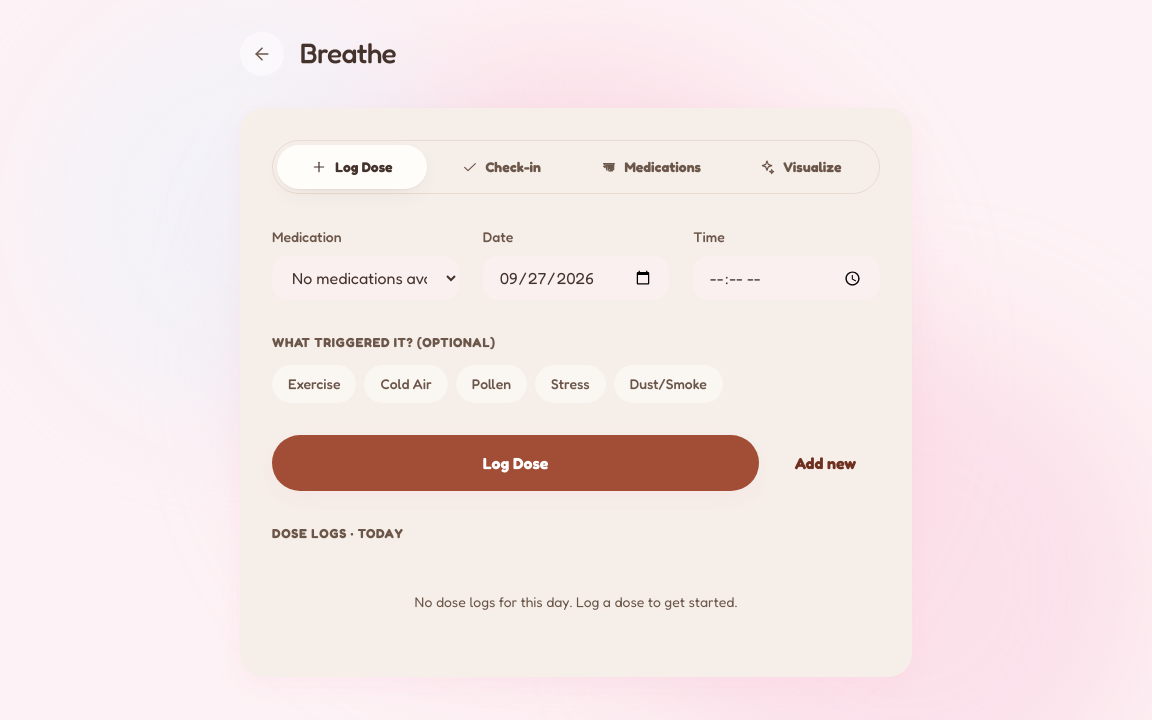
Test: BreatheScreen › allows switching between sections
The image size is (1152, 720).
Step 1. Click the radio button labelled "Check-in" → (501, 166), box left=462, top=158, right=541, bottom=175
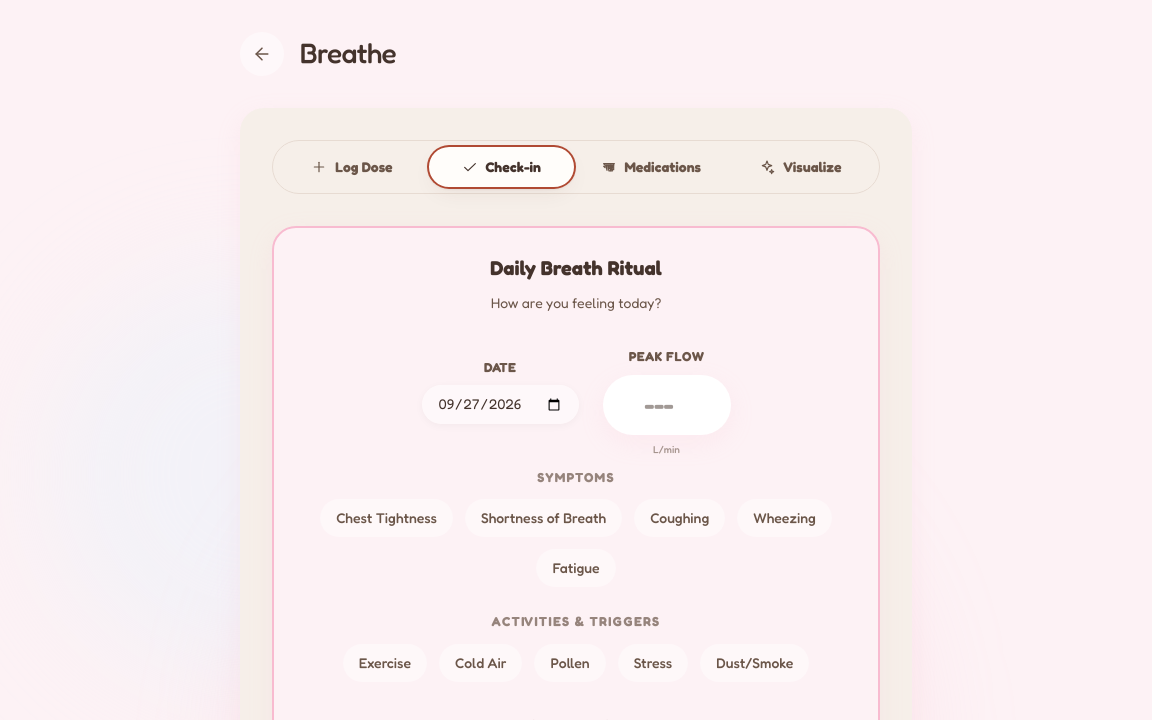
Now the radio button labelled "Check-in" is checked, box left=426, top=145, right=576, bottom=189
Step 2. Click the radio button labelled "Medications" → (651, 166), box left=600, top=158, right=701, bottom=175
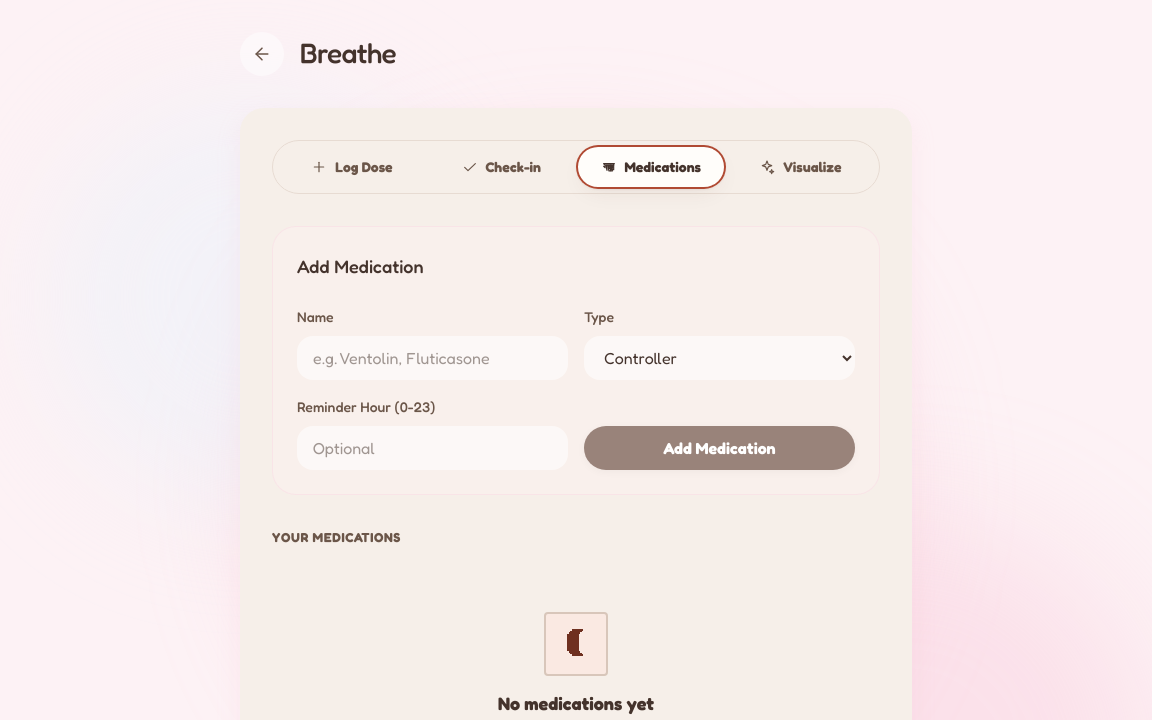
Now the radio button labelled "Medications" is checked, box left=576, top=145, right=726, bottom=189
Now the text "No medications yet" is shown, box left=498, top=688, right=654, bottom=718
